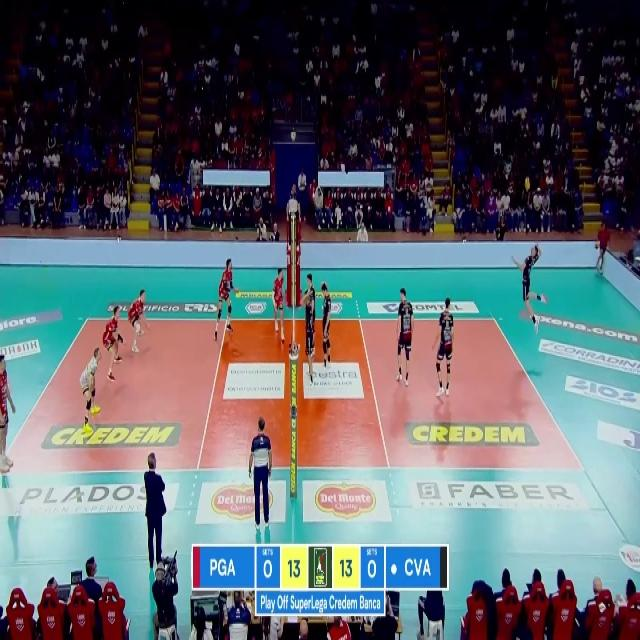volleyball court: (5, 313, 586, 472)
